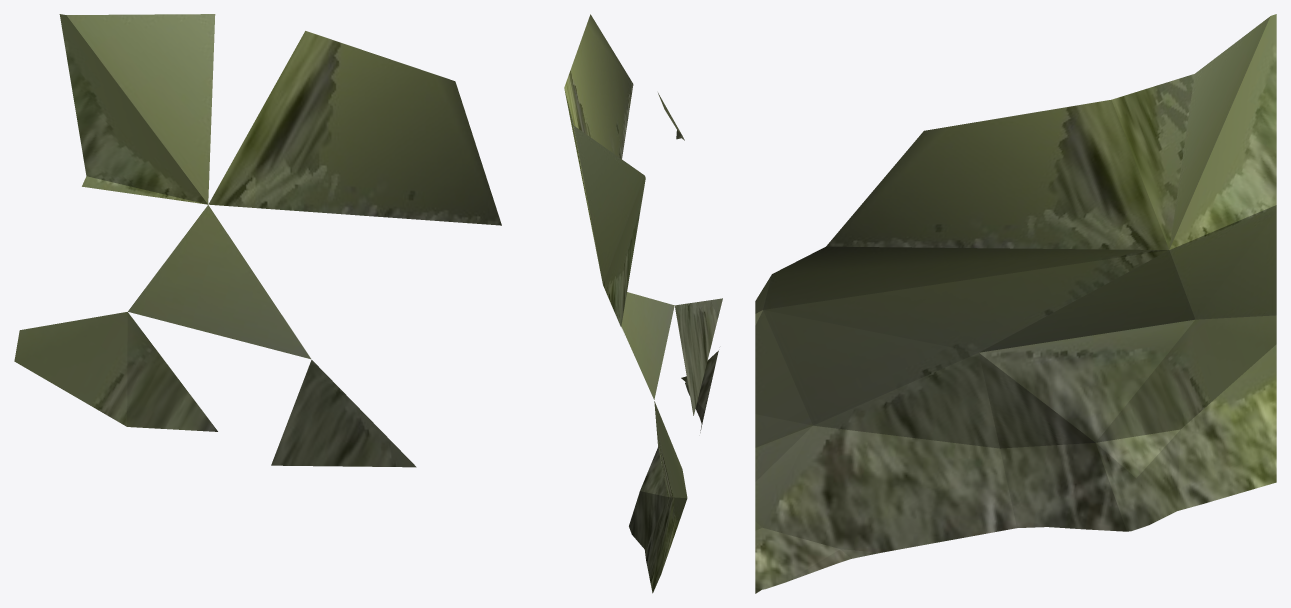
The picture shows the model from 3 angles, left to right: view 1: azimuth 30°, elevation 25°; view 2: azimuth 150°, elevation 25°; view 3: azimuth 270°, elevation 25°; orthographic projection. The views are drawn at different scales.
Size of the model in its own units: 1.88 by 2.95 by 2.95.
Materials: 3 (3 with a texture image).
